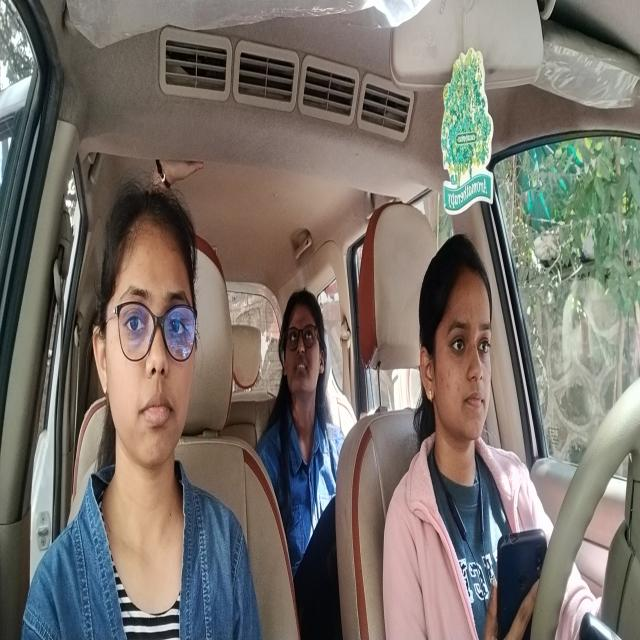mobile: (494, 518, 548, 640)
person: (89, 178, 199, 498), (416, 225, 497, 464), (277, 283, 330, 430)
